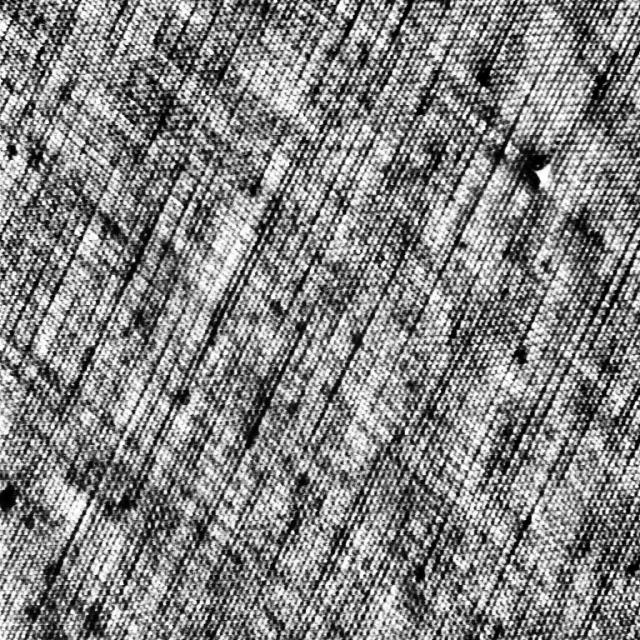Hole: (528, 151, 552, 190)
